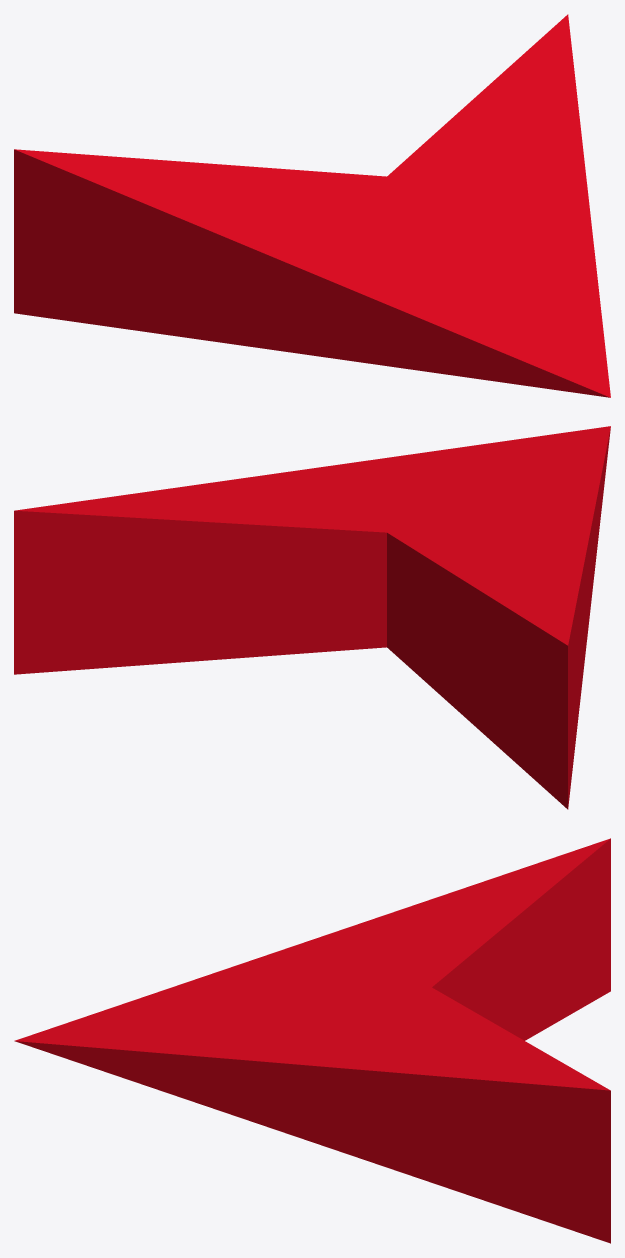
The model's file is arrow.fbx.
3 views of the same model, one above another, from view 1: azimuth 30°, elevation 25°; view 2: azimuth 150°, elevation 25°; view 3: azimuth 270°, elevation 25° (orthographic). The views are drawn at different scales.
Parts seen in each view (by area): view 1: Cube; view 2: Cube; view 3: Cube.
Boxes of the visible parts, x1,y1,x2,y2 form: Cube: (14,14,610,397); Cube: (14,426,610,809); Cube: (14,838,610,1243).
Bounding box in the file's own units: 141 × 40 × 141.
